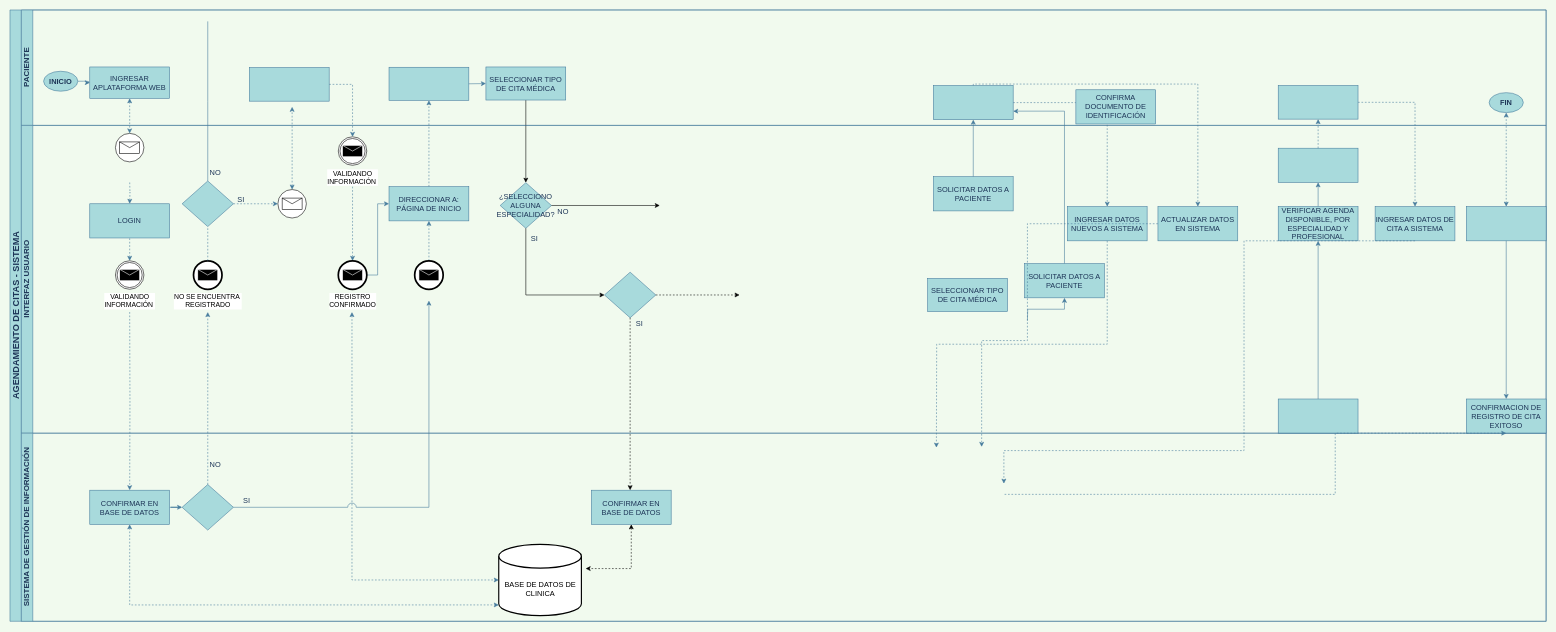
Image size: 1556x632. Some labels were removed from this diagram. Here are the shapes that lost their labels. From the top down, the centre of each, then its label:
the point at 289,84: CONFIRMAR DATOS DE FORMULARIO PARA NUEVO REGISTRO
the point at 428,83: INGRESAR A MODULO: AGENDAR CITAS
the point at 973,102: CONFIRMA DATOS REQUERIDOS PARA NUEVO REGISTRO Ó ACTUALIZACION
the point at 1318,102: CONFIRMAR FECHA, HORA Y PROFESIONAL QUE DESEA AGENDAR
the point at 129,147: DIGITAR DATOS PARA INICIO SESIÓN
the point at 1318,165: INFORMAR FECHA, HORA Y PROFESIONAL DISPONIBLE
the point at 207,203: ¿DESEA REGISTRARSE?
the point at 291,203: DIGITAR FORMULARIO CON SUS DATOS
the point at 1506,223: NOTIFICAR Y DAR RECOMENDACIONES DE CITA
the point at 428,274: BIENVENIDO
the point at 630,295: ¿HAY ORDEN MÉDICA REGISTRADA?
the point at 1318,415: CONFIRMACION DE REGISTRO NUEVO O ACTUALIZACION EXITOSA
the point at 207,507: ¿USUARIO ESTA REGISTRADO?
